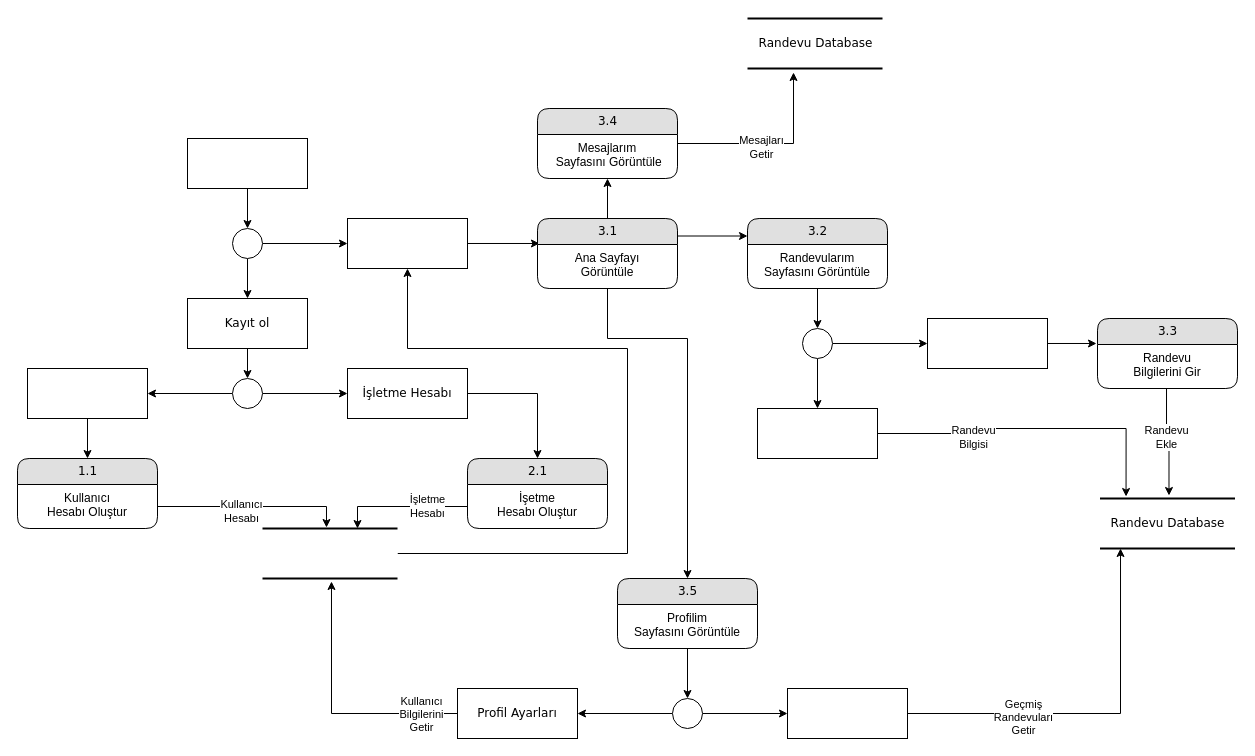
Image size: 1255x756. Some labels were removed from this diagram. The shapes that lost their labels are listed below. From the top down, each one's box as (x1, y1, x2, y2) in pixels, then its label:
(186, 138, 308, 188): Uygulamayı Aç
(346, 218, 468, 268): Giriş
(926, 318, 1048, 368): Randevu Oluştur
(26, 368, 148, 418): Kullanıcı
(756, 408, 878, 458): Randevuyu Görüntüle
(261, 527, 398, 579): Kullanıcı Database
(786, 688, 908, 738): Geçmiş Randevular
